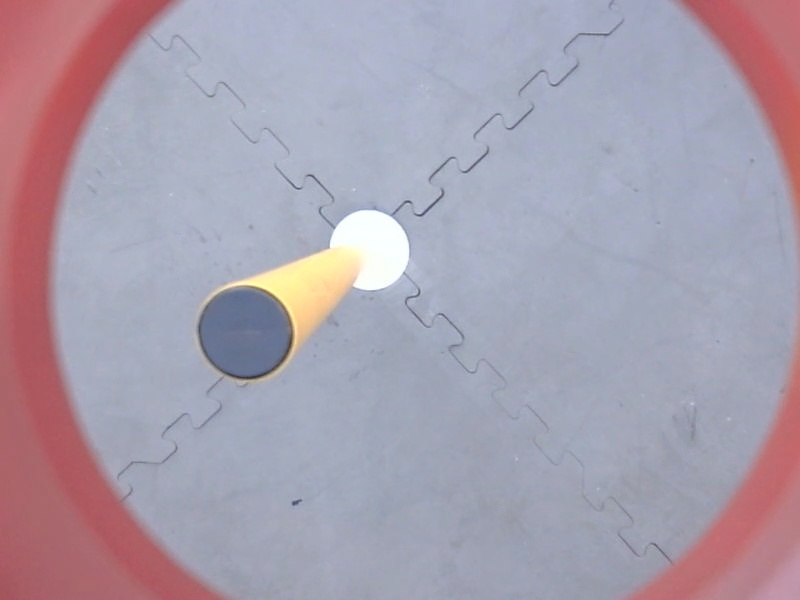tip: (191, 279, 300, 387)
